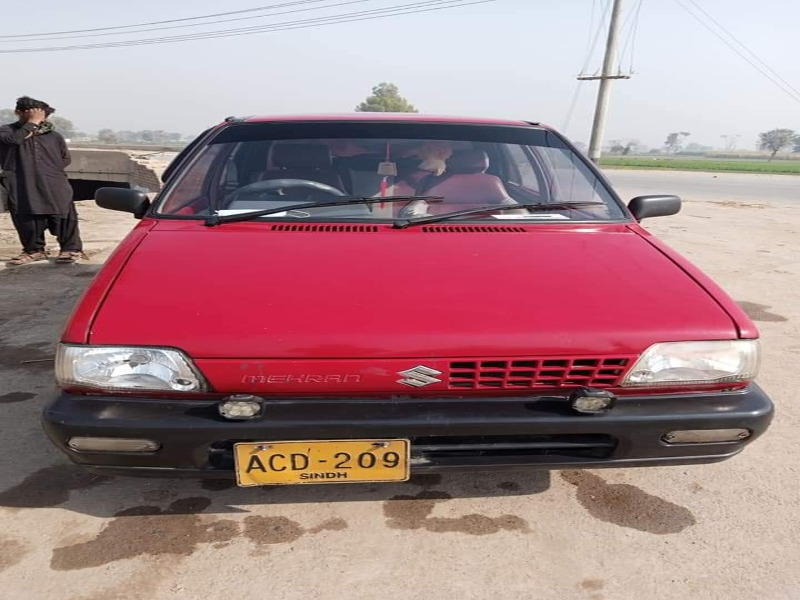License Plate: (228, 436, 415, 488)
